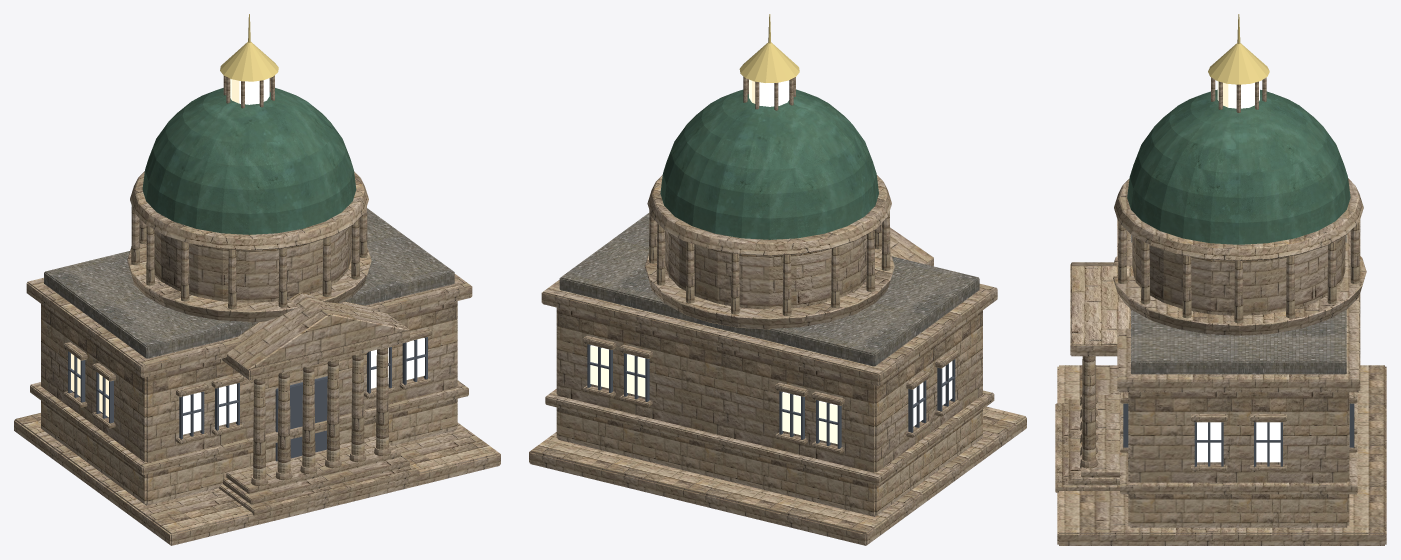
The model's file is landmark_classical_dome_hall.glb.
3 renders of one model, left to right at view 1: azimuth 30°, elevation 25°; view 2: azimuth 150°, elevation 25°; view 3: azimuth 270°, elevation 25°, orthographic. The views are drawn at different scales.
Parts seen in each view (by area): view 1: MainCorps, RotundaDome, RoofParapet, PlinthBase, DrumCore, Pediment, MainCornice, LowerCornice, DrumRing, DrumPlinth, Steps_2, Steps_0 (+14 smaller); view 2: MainCorps, RotundaDome, RoofParapet, PlinthBase, MainCornice, DrumCore, LowerCornice, DrumPlinth, DrumRing, LanternCap, LanternGlass, Pediment (+4 smaller); view 3: RotundaDome, MainCorps, PlinthBase, RoofParapet, DrumCore, MainCornice, DrumPlinth, DrumRing, Pediment, LowerCornice, Steps_2, LanternCap (+14 smaller).
Part boxes in pixels (x1,y1,x2,y2): MainCorps: (41, 301, 457, 505); RotundaDome: (142, 88, 356, 234); RoofParapet: (44, 208, 454, 358); PlinthBase: (14, 413, 500, 545); DrumCore: (154, 226, 351, 302); Pediment: (226, 292, 409, 369); MainCornice: (26, 274, 472, 377); LowerCornice: (30, 380, 468, 475); DrumRing: (130, 171, 368, 250); DrumPlinth: (127, 237, 371, 322); Steps_2: (226, 436, 400, 494); Steps_0: (218, 464, 419, 515); MainCorps: (556, 307, 982, 516); RotundaDome: (660, 89, 878, 239); RoofParapet: (559, 213, 979, 366); PlinthBase: (529, 406, 1026, 545); MainCornice: (541, 280, 997, 385); DrumCore: (665, 231, 866, 309); LowerCornice: (545, 389, 994, 485); DrumPlinth: (644, 242, 894, 329); DrumRing: (647, 175, 891, 255); LanternCap: (739, 42, 799, 82); LanternGlass: (749, 79, 789, 106); Pediment: (890, 227, 933, 264); RotundaDome: (1127, 89, 1350, 244); MainCorps: (1128, 392, 1349, 527); PlinthBase: (1057, 365, 1386, 545); RoofParapet: (1131, 235, 1346, 374); DrumCore: (1132, 235, 1345, 315); MainCornice: (1117, 219, 1360, 392); DrumPlinth: (1113, 242, 1366, 335); DrumRing: (1114, 178, 1363, 260); Pediment: (1071, 262, 1133, 344); LowerCornice: (1120, 392, 1357, 494); Steps_2: (1081, 395, 1119, 477); LanternCap: (1208, 43, 1269, 84).
Bounding box in the file's own units: 14.8 × 18.32 × 12.27.
Materials: 7 (4 with a texture image).
